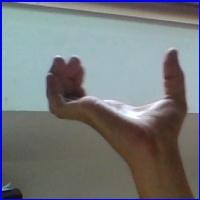B: (35, 40, 193, 166)
